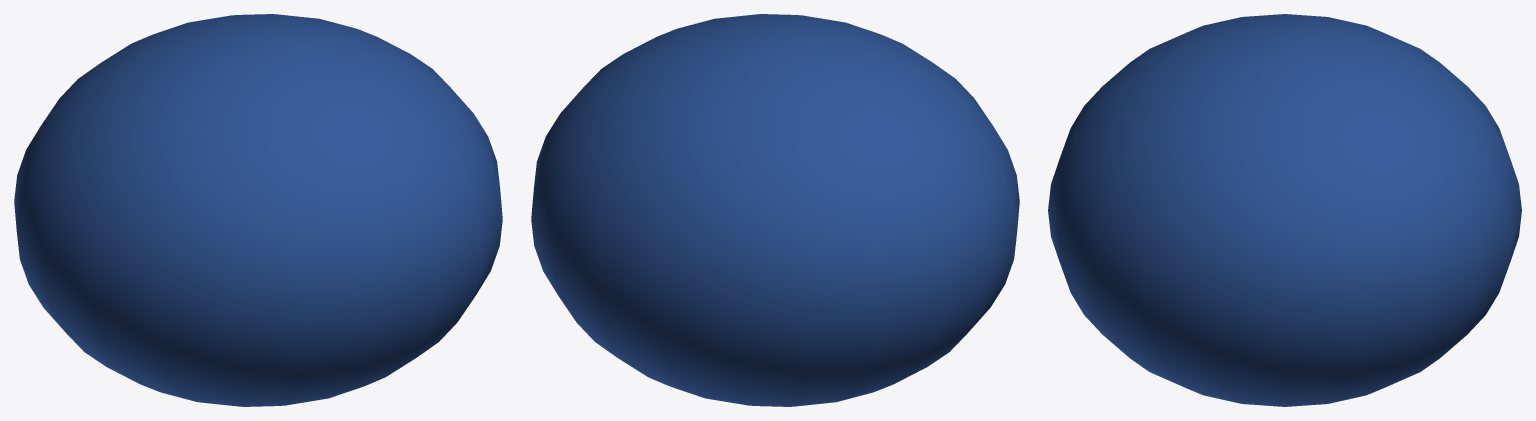
Rendered from pelotaAzul.obj.
The picture shows the model from 3 angles, left to right: view 1: azimuth 30°, elevation 25°; view 2: azimuth 150°, elevation 25°; view 3: azimuth 270°, elevation 25°; orthographic projection.
Parts seen in each view (by area): view 1: pSphere3; view 2: pSphere3; view 3: pSphere3.
Boxes of the visible parts, x1,y1,x2,y2 form: pSphere3: [14, 14, 502, 406]; pSphere3: [531, 14, 1019, 406]; pSphere3: [1048, 14, 1521, 406].
Size of the model in its own units: 1.26 by 0.943 by 1.21.
Materials: 1 (1 with a texture image).
